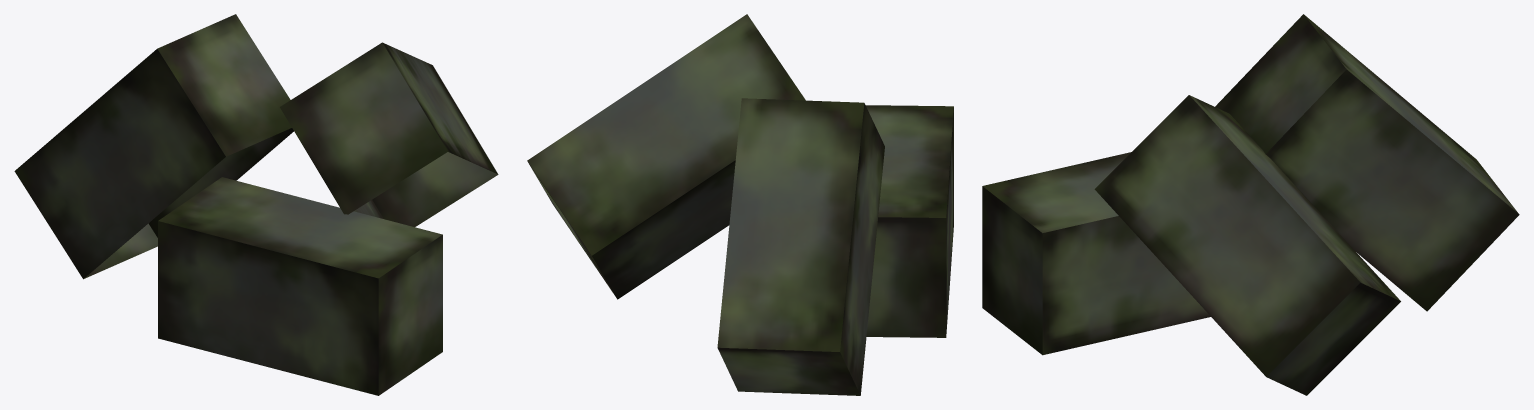
The model's file is rubble-01.fbx.
3 views of the same model, side by side, from view 1: azimuth 30°, elevation 25°; view 2: azimuth 150°, elevation 25°; view 3: azimuth 270°, elevation 25° (orthographic). The views are drawn at different scales.
Visible parts, largest first — view 1: rubble_1; view 2: rubble_1; view 3: rubble_1.
Boxes of the visible parts, <box> form: rubble_1: <box>14,14,498,395</box>; rubble_1: <box>527,14,953,395</box>; rubble_1: <box>982,14,1519,395</box>.
Bounding box in the file's own units: 170 × 111 × 199.
